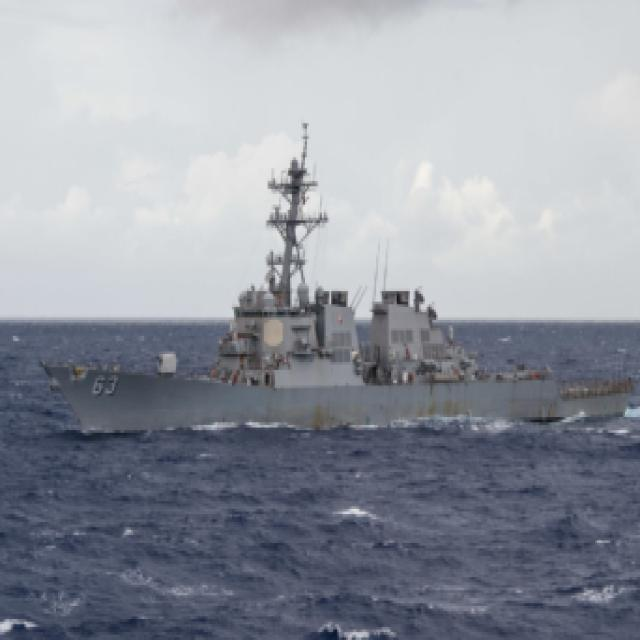navalvessels: (43, 118, 640, 443)
